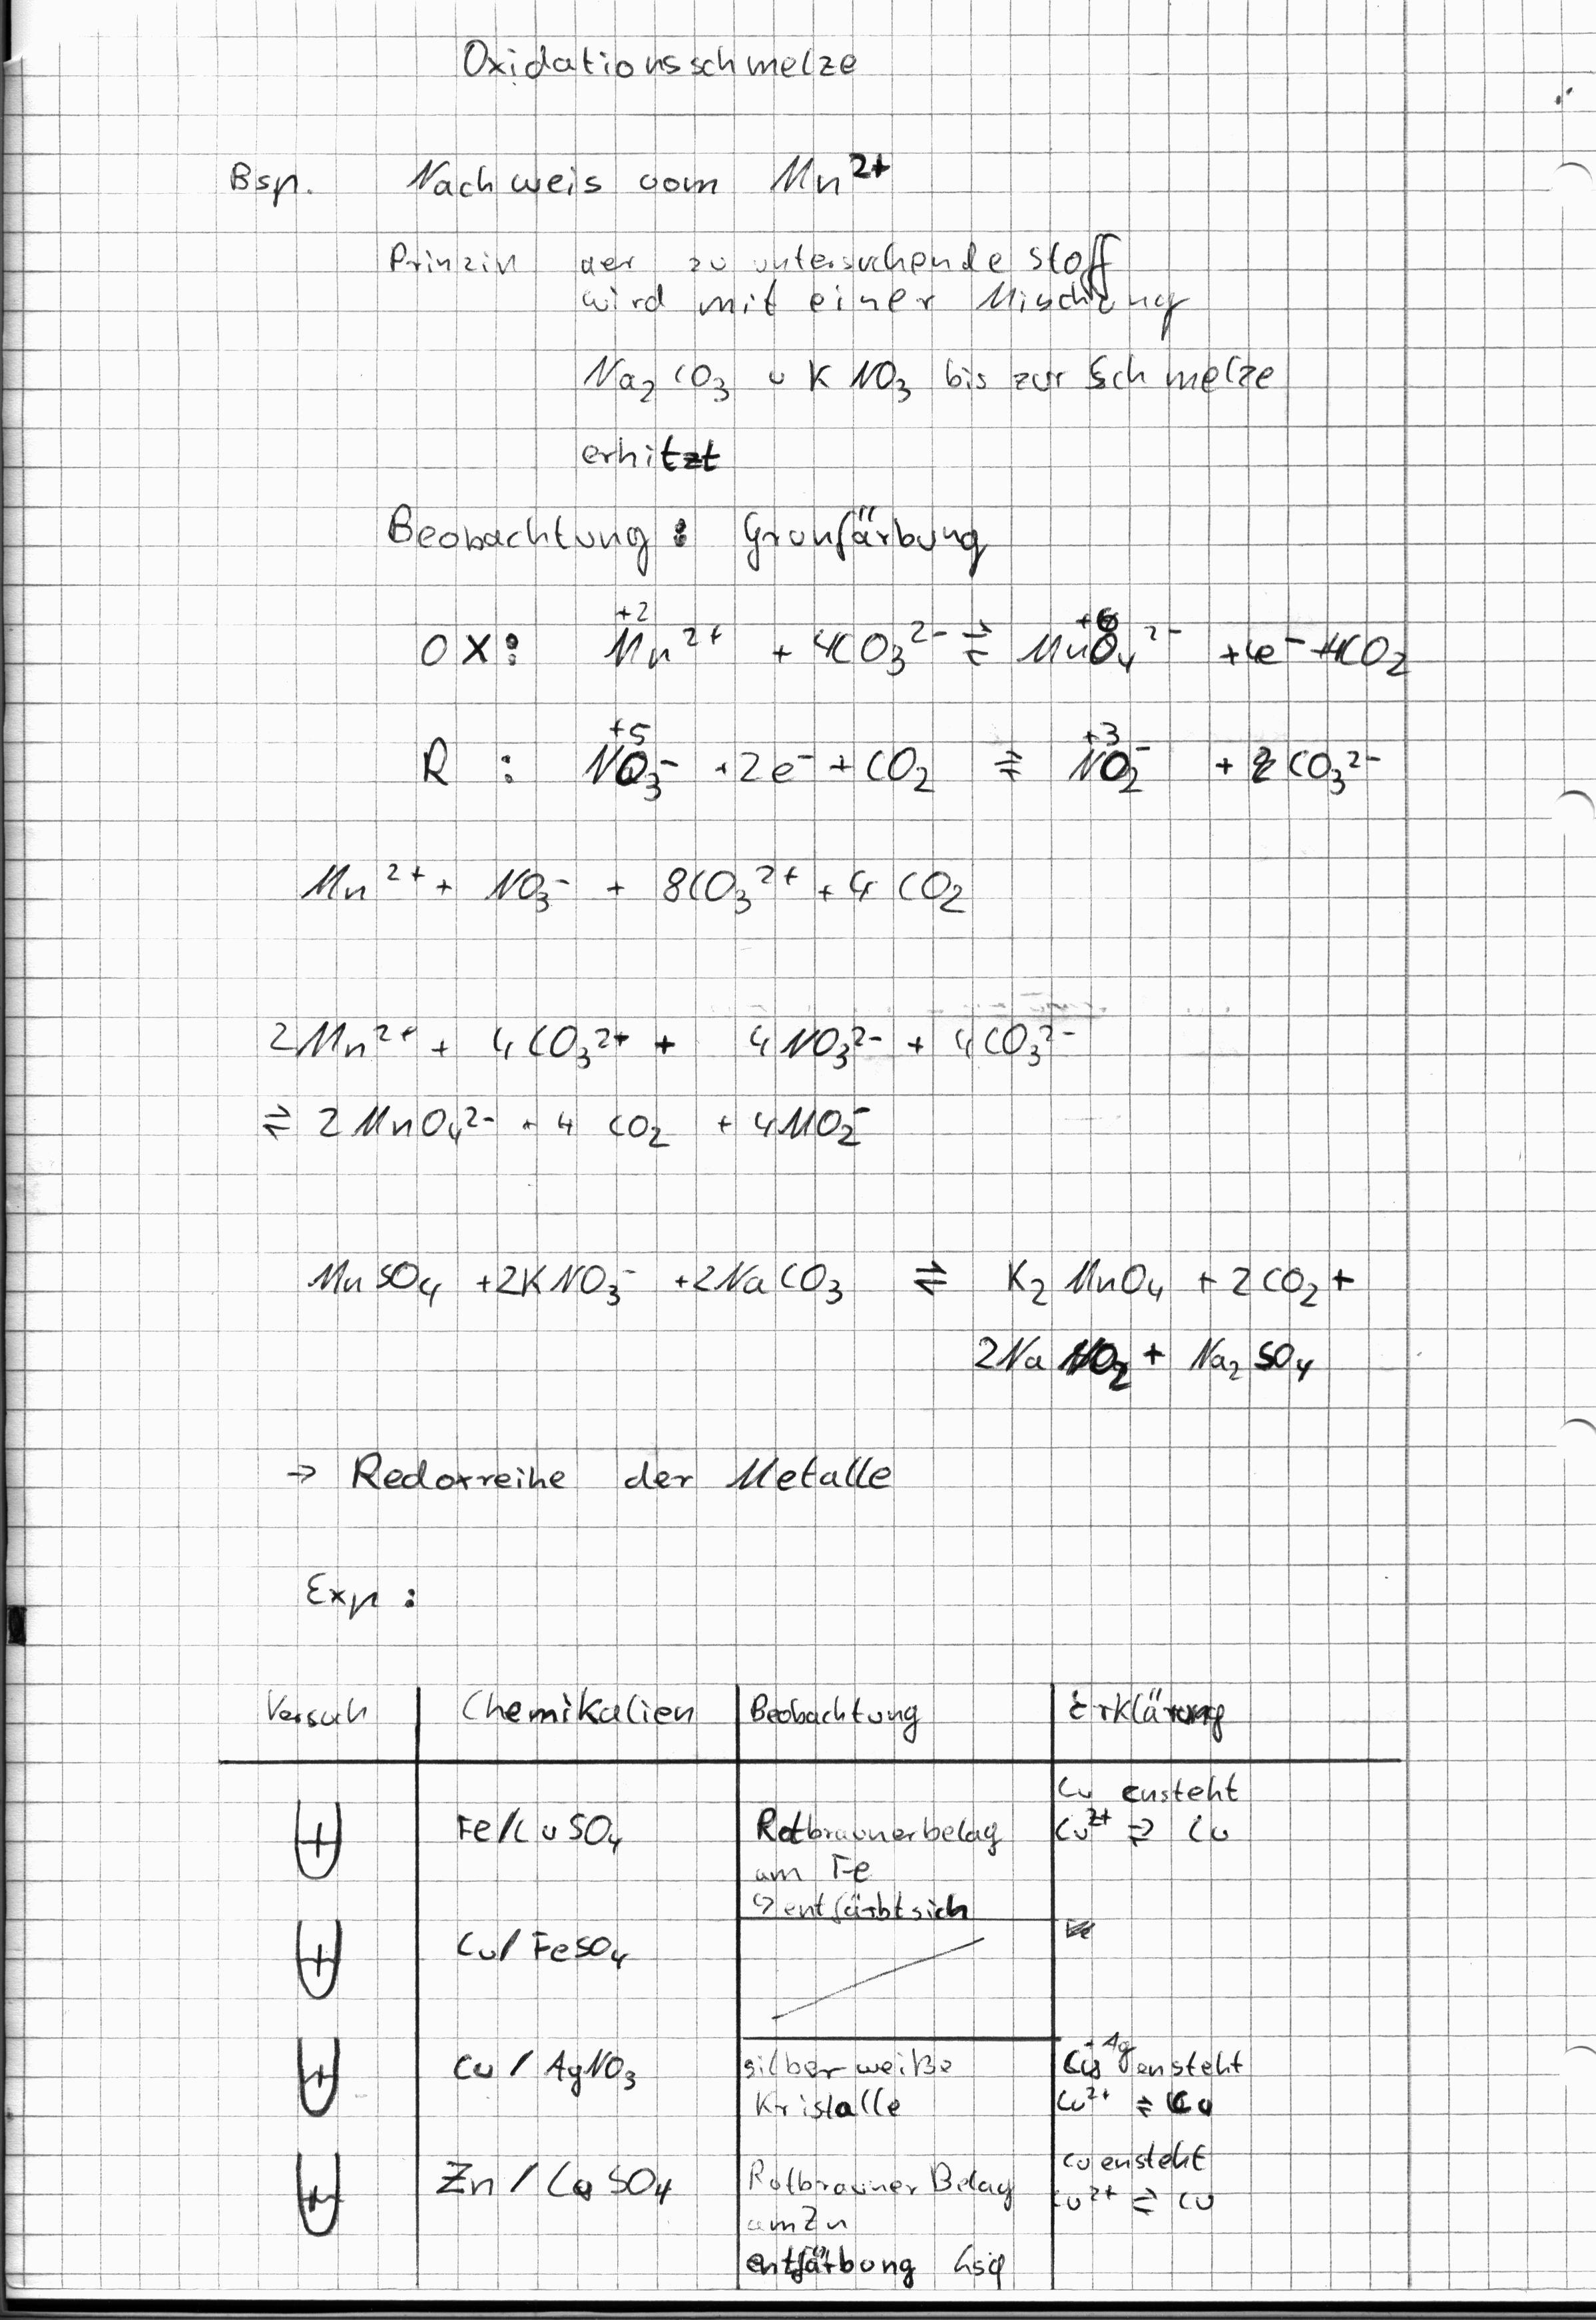word: (569, 220, 1281, 483), (247, 999, 1081, 1166), (405, 587, 1432, 695), (410, 705, 1386, 818), (279, 826, 978, 942), (378, 485, 1014, 600), (965, 1237, 1375, 1408), (271, 1424, 906, 1528), (286, 1231, 955, 1324), (731, 2140, 1023, 2300), (388, 129, 917, 216), (433, 13, 886, 111), (1051, 2025, 1271, 2225), (735, 1793, 1017, 1940), (730, 2016, 963, 2142), (417, 2124, 684, 2225), (1039, 1741, 1257, 1860), (426, 1768, 653, 1877), (437, 2016, 660, 2116), (452, 1667, 713, 1745), (436, 1897, 646, 1990), (1052, 1656, 1244, 1756), (737, 1663, 939, 1760), (244, 1655, 390, 1759), (280, 1540, 443, 1632), (203, 129, 342, 230), (370, 222, 535, 294)
